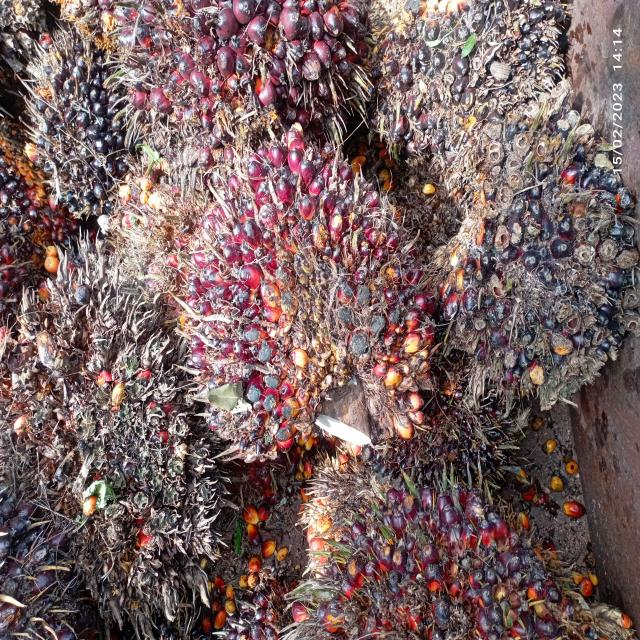fraksi 00: (435, 69, 640, 451), (367, 0, 601, 182), (12, 27, 165, 227)
fraksi 1: (143, 98, 481, 500), (284, 415, 554, 640), (100, 2, 400, 150)
